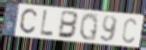9: (99, 14, 120, 43)
B: (56, 10, 80, 40)
C: (19, 8, 38, 35), (121, 17, 138, 45)
L: (39, 9, 55, 37)
Q: (79, 12, 99, 42)
